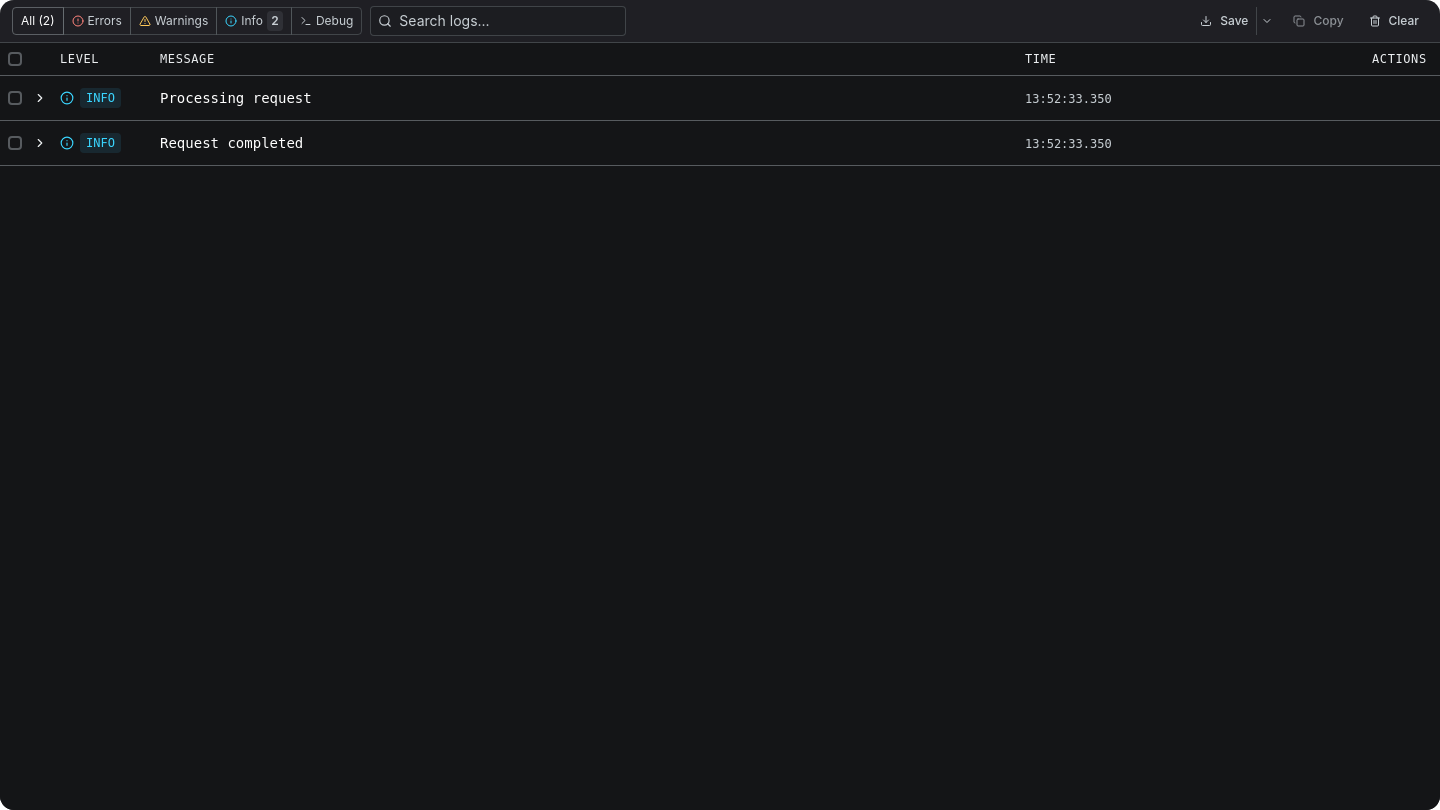
Test case: ConsolePanel › filters logs by full-text search across multiple fields
expect the row with test id "console-log-row-multi-log-1" is shown: met, box x1=0 y1=76 x2=1439 y2=120
Search by correlation ID
Type "req-abc" into the field with test id "console-search-input".
click(498, 21); type("req-abc")  # box x1=370 y1=6 x2=626 y2=36
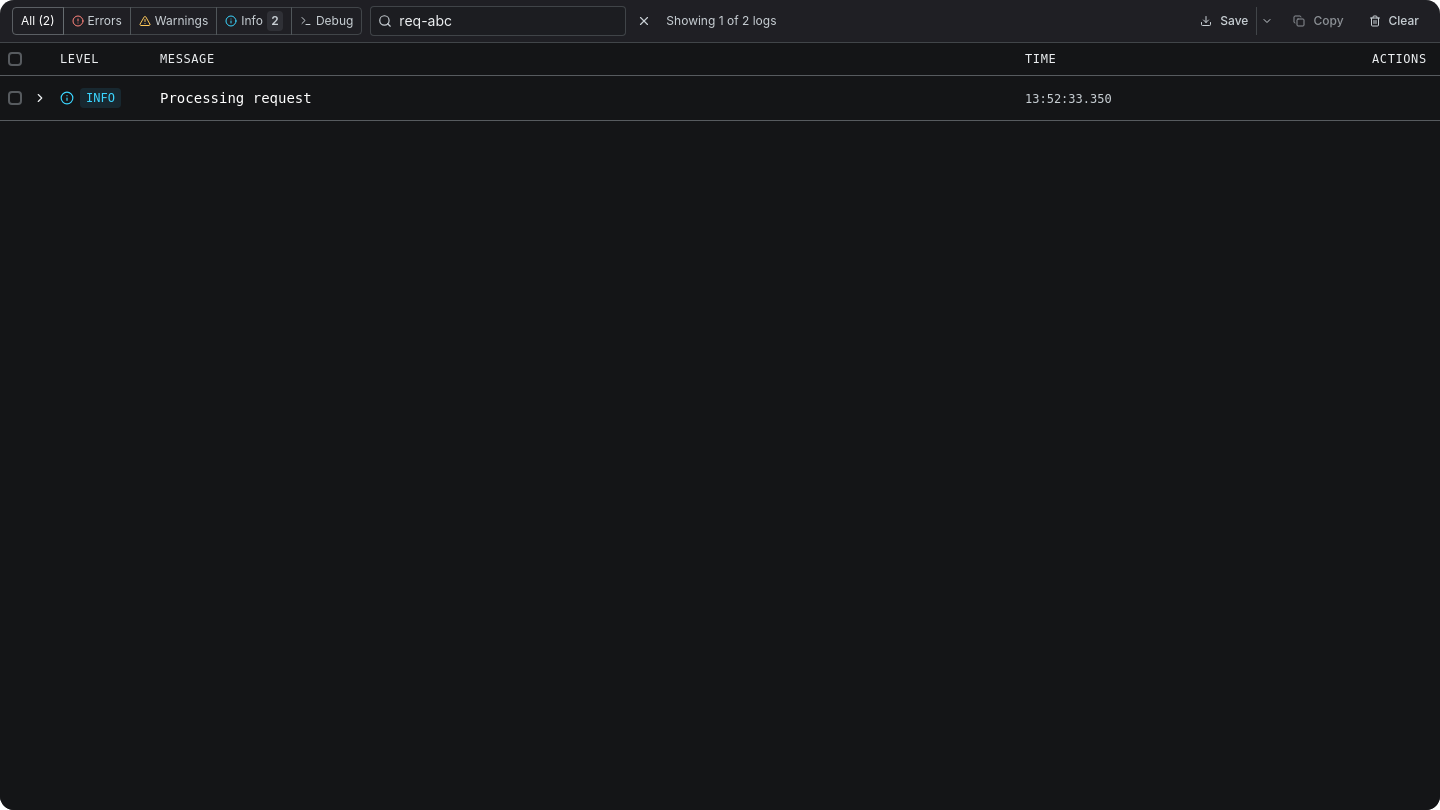
expect the row with test id "console-log-row-multi-log-1" is shown: met, box x1=0 y1=76 x2=1439 y2=120
expect the row with test id "console-log-row-multi-log-2" is gone: met
Search by args content
Replace the text in the field with test id "console-search-input" with "user-123" at [498, 21], box x1=370 y1=6 x2=626 y2=36
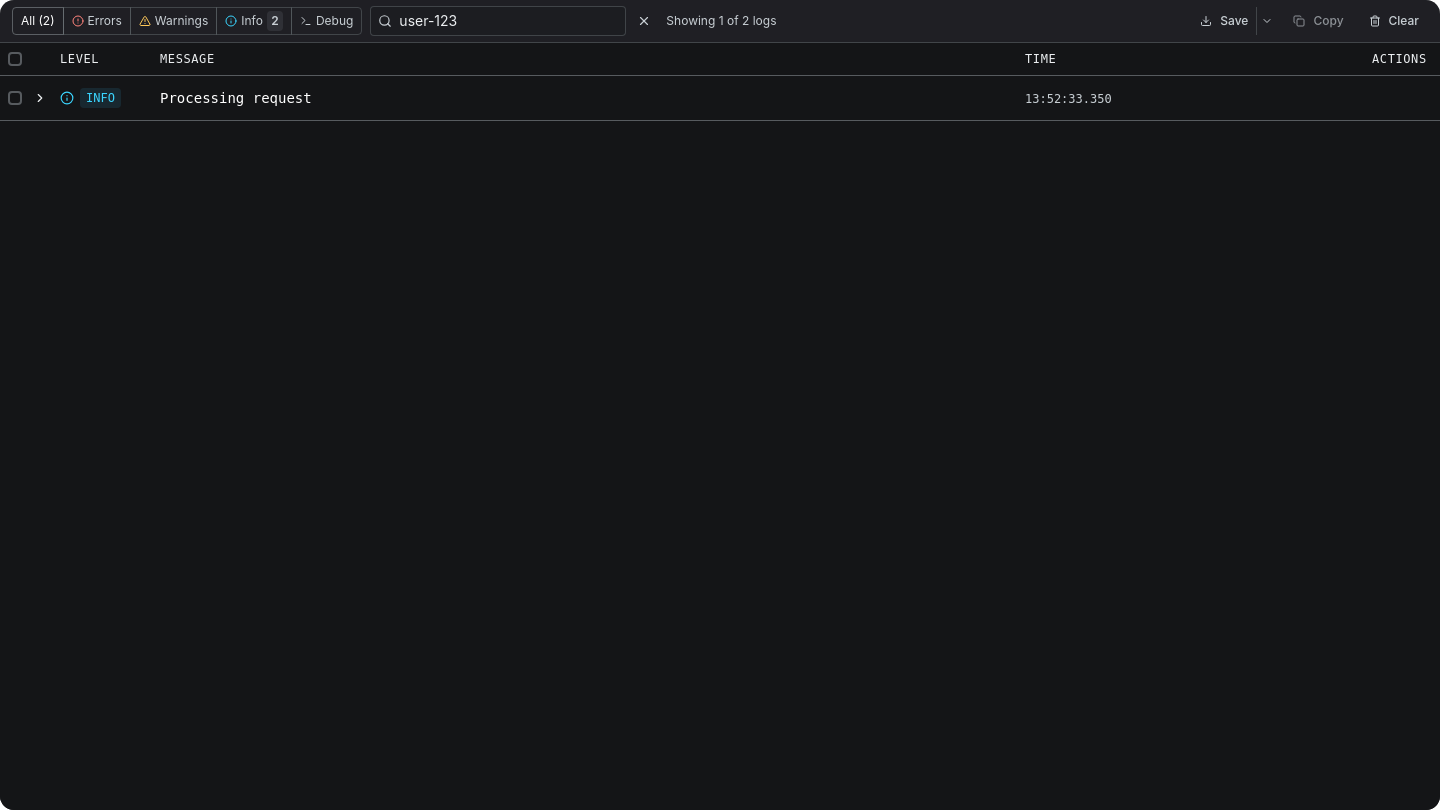
expect the row with test id "console-log-row-multi-log-1" is shown: met, box x1=0 y1=76 x2=1439 y2=120
Search by message
Replace the text in the field with test id "console-search-input" with "completed" at [498, 21], box x1=370 y1=6 x2=626 y2=36
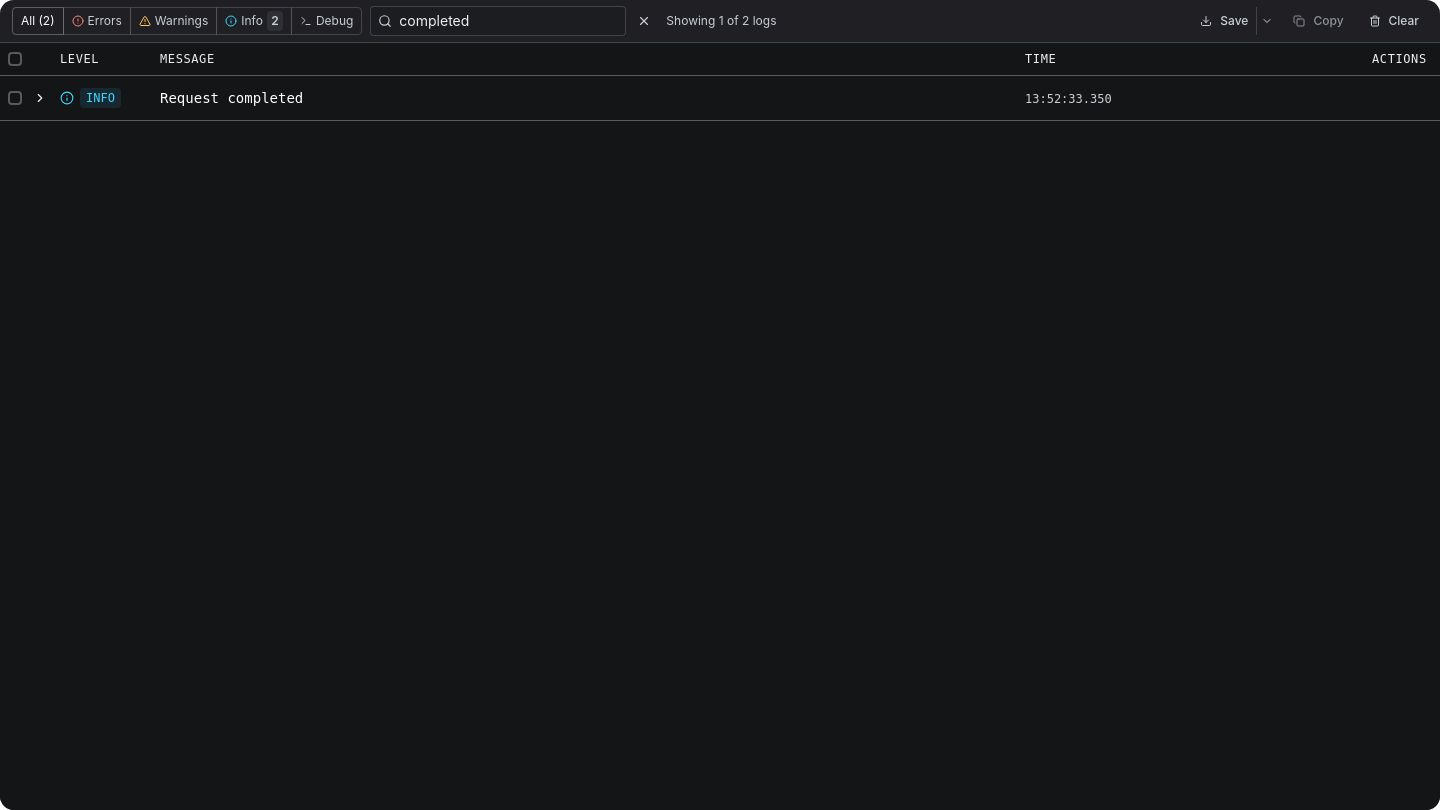
expect the row with test id "console-log-row-multi-log-1" is gone: met
expect the row with test id "console-log-row-multi-log-2" is shown: met, box x1=0 y1=76 x2=1439 y2=120
